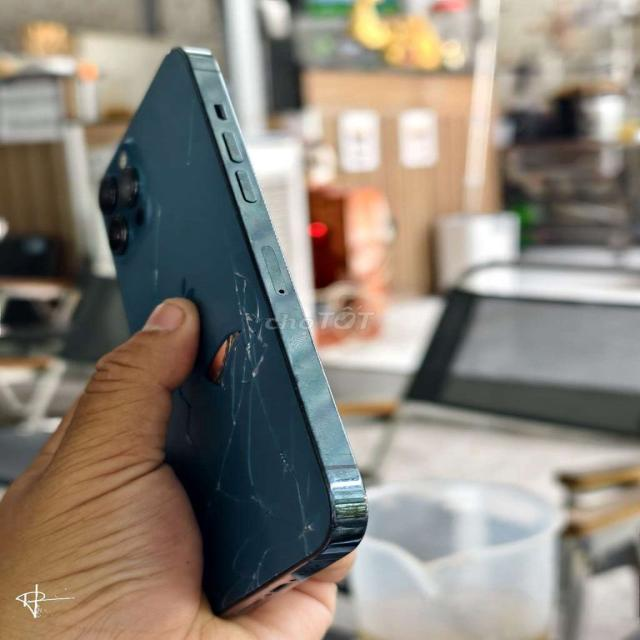gen_12_13: (82, 42, 388, 620)
